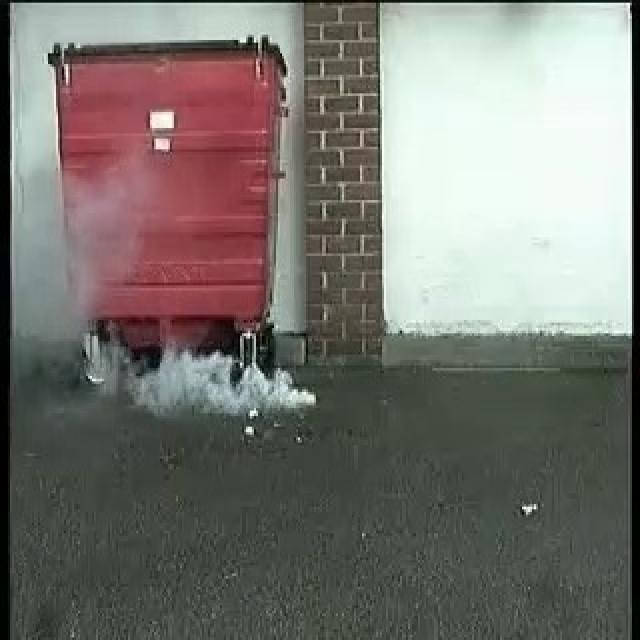smoke: (133, 355, 313, 417)
